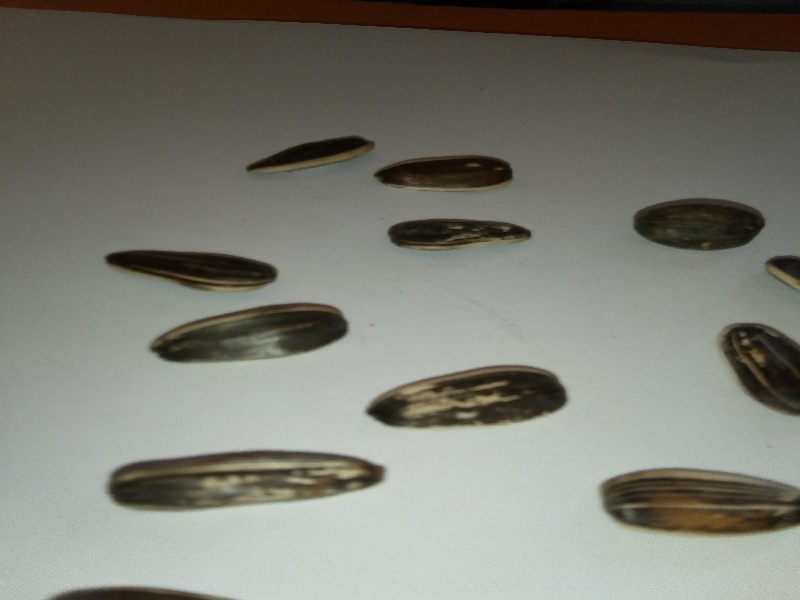girasol: (99, 440, 402, 515), (354, 352, 572, 439), (137, 299, 363, 373), (96, 241, 288, 295), (382, 210, 537, 253)
